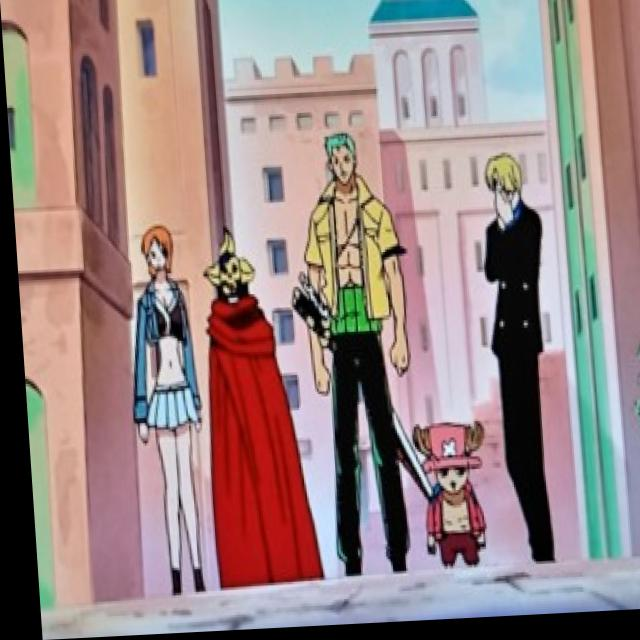Chyopa: (405, 414, 488, 579)
Nami: (134, 223, 182, 289)
Sangdi: (476, 151, 532, 233)
Usopp: (188, 221, 265, 312)
Zoro: (312, 115, 364, 191)
